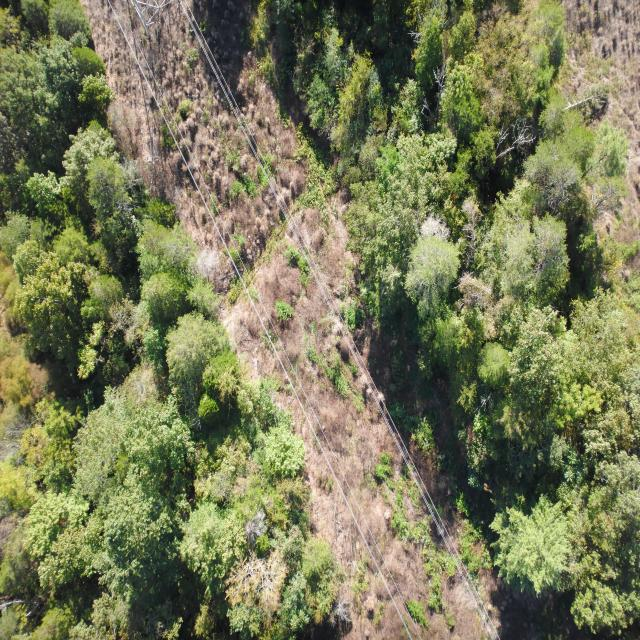Area of Interest: (5, 2, 351, 632), (288, 5, 636, 614)
